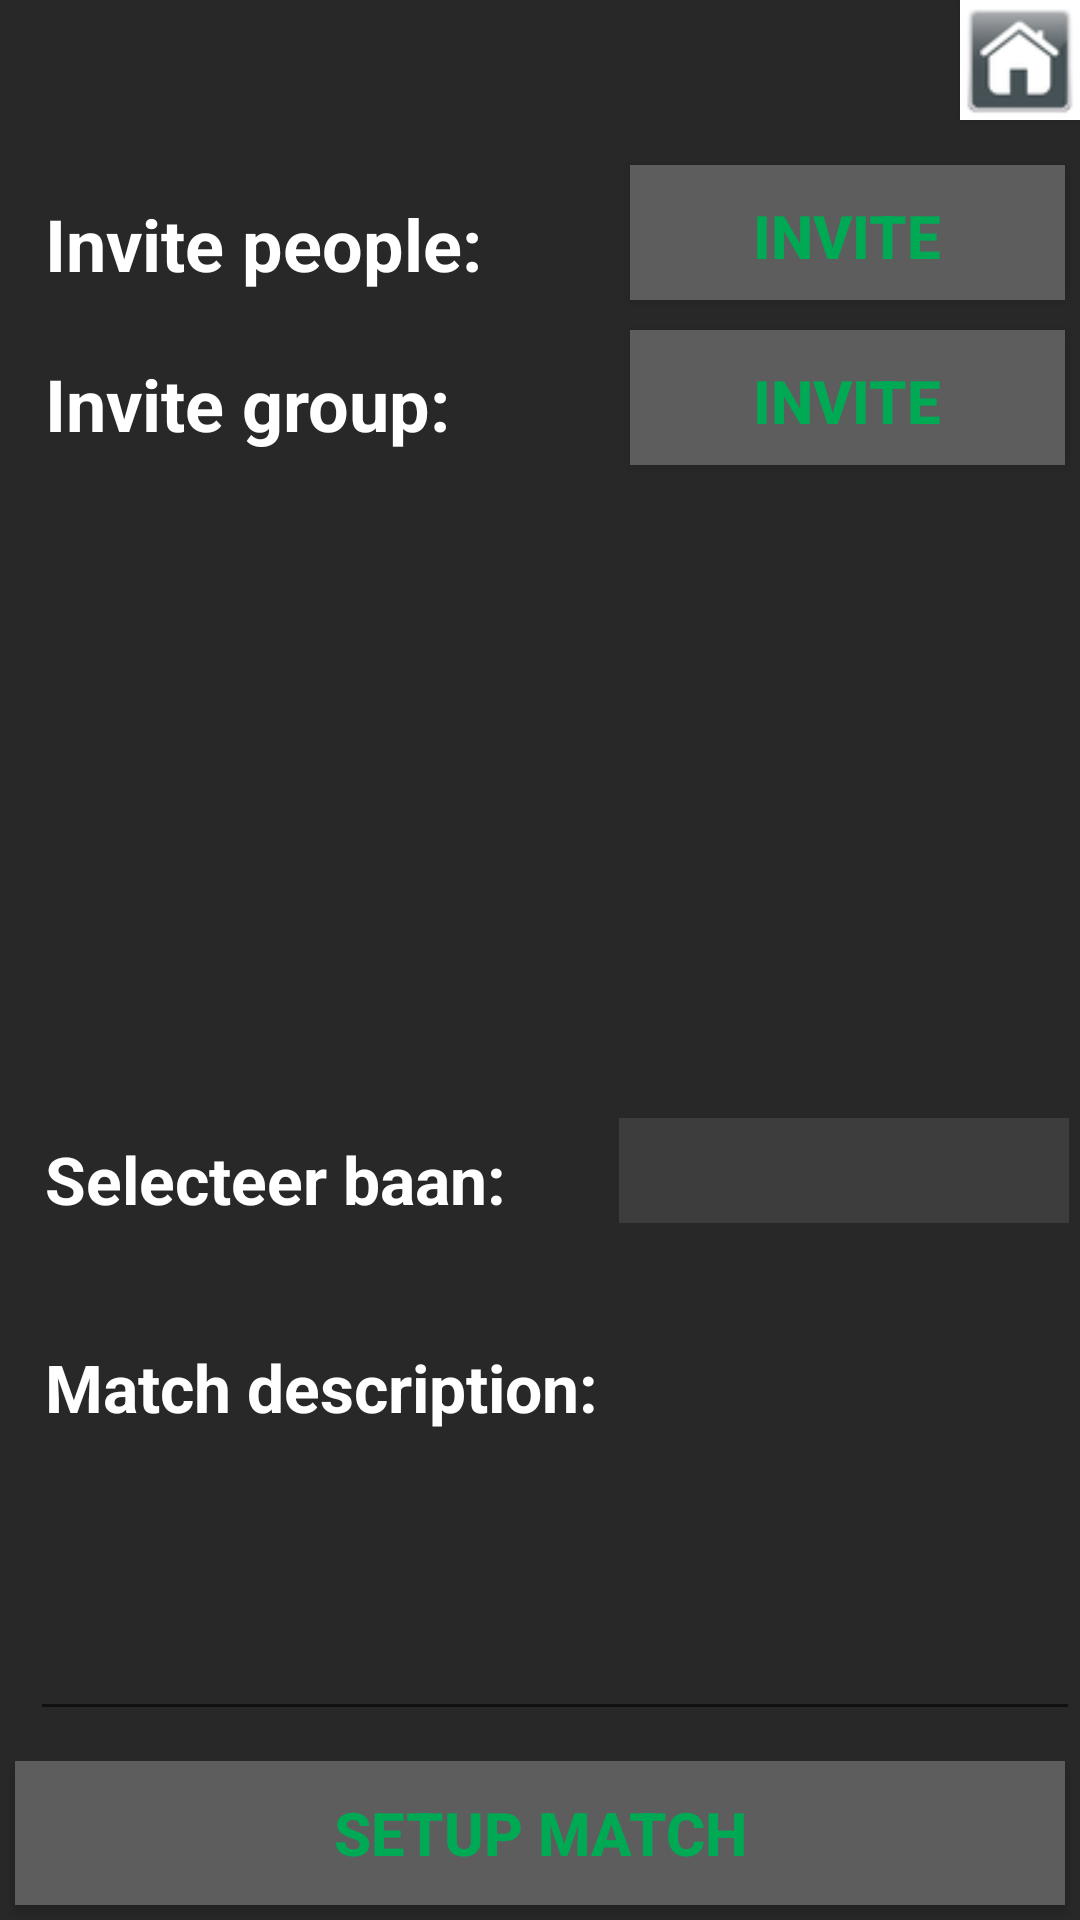

Icons on this 1080px×1920px Android screen, each with its box as (x1, y1, x2, y2):
home: (960, 0, 1080, 120)
